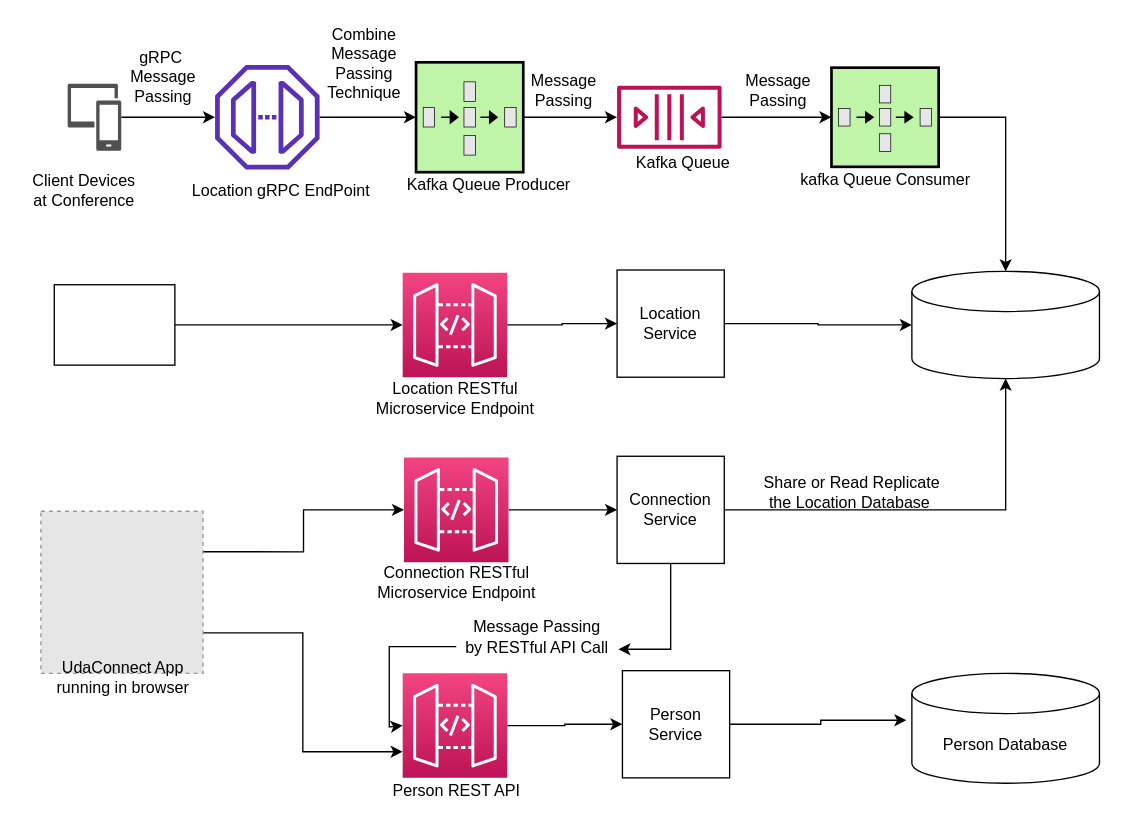
Some shapes in this 1123 by 827 pixel diagram are drawn without their labels. Grey dashed boxes stand in for pictures. Here are the shapes that lost their labels. From the top down, the centre of each, then its label:
At (114,324): "Postman".
At (1005,324): "Location Database".
